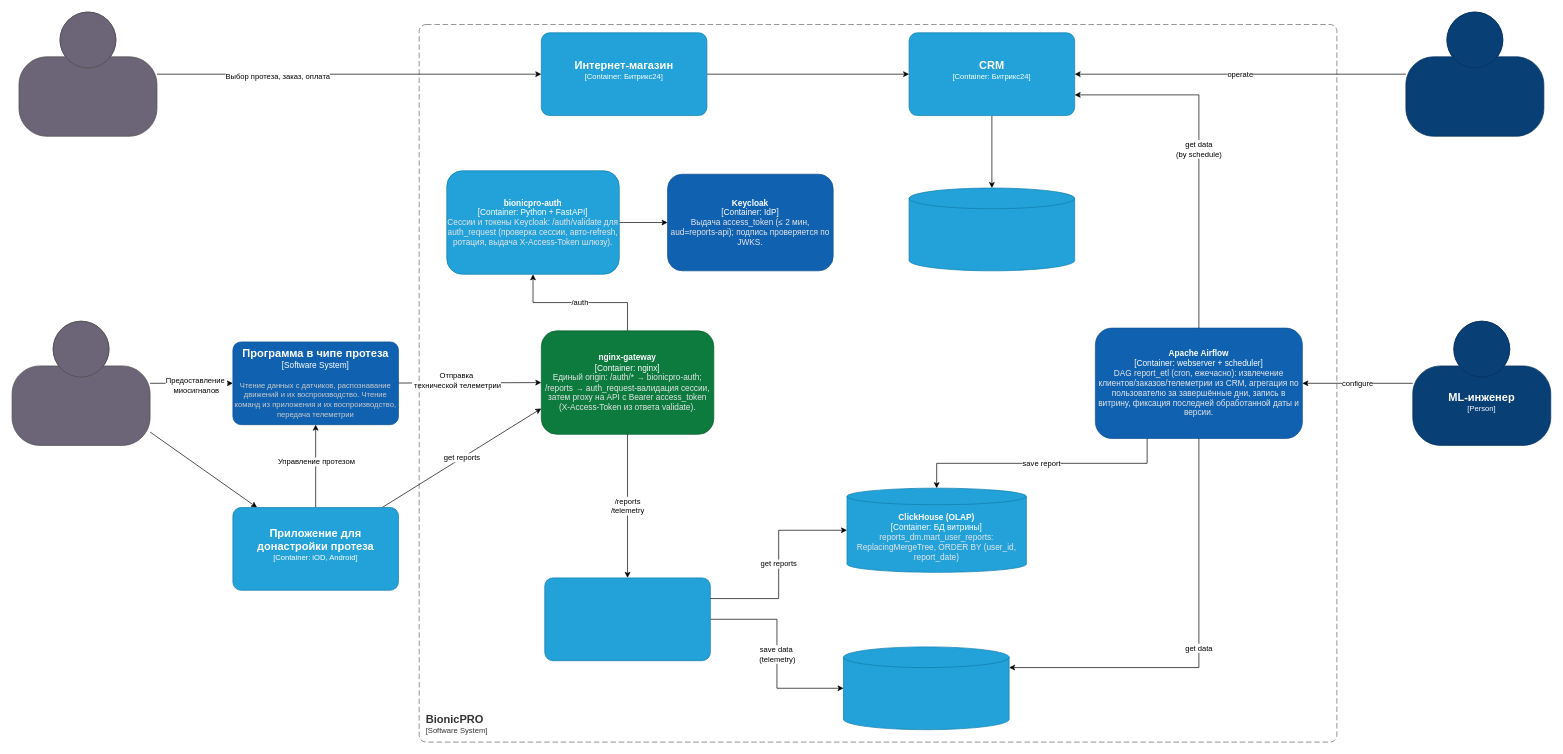
Some shapes in this 1563 by 754 pixel diagram are drawn without their labels. The shapes that lost their labels are listed below. From the top down, each one's centre as x and y in pixels, then its label:
(87,73): Покупатель протеза [Person]
(1474,73): Оператор производства [Person]
(991,229): CRM DB [Container: e.g. Oracle Database 12]
(80,383): Пилот протеза [Person] С этого человека считываются данные
(627,619): API [Container: e.g. SpringBoot, ElasticSearch, etc.]
(926,688): База данных [Container: PostgreSQL]
